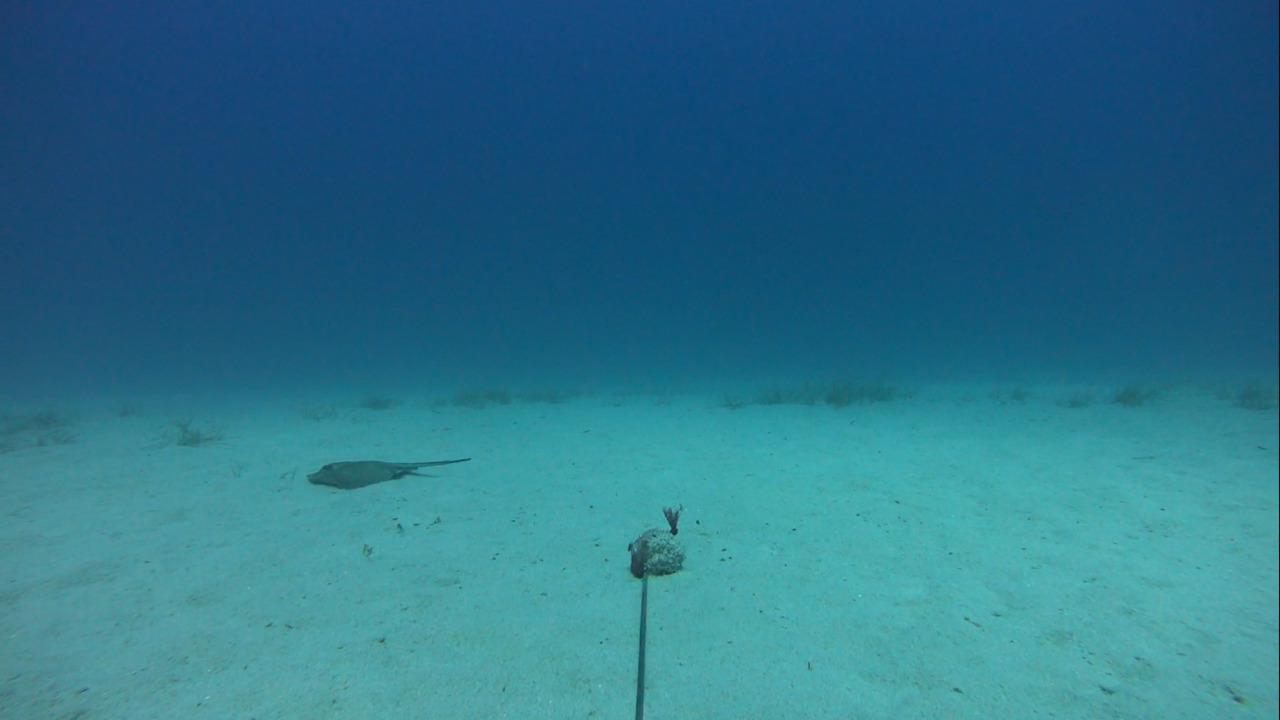myliobatis: (296, 446, 472, 494)
